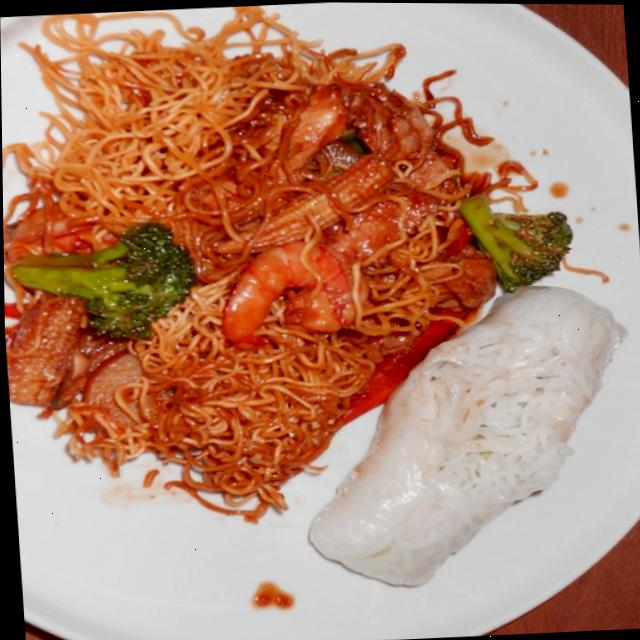面条主食: (0, 7, 640, 612)
